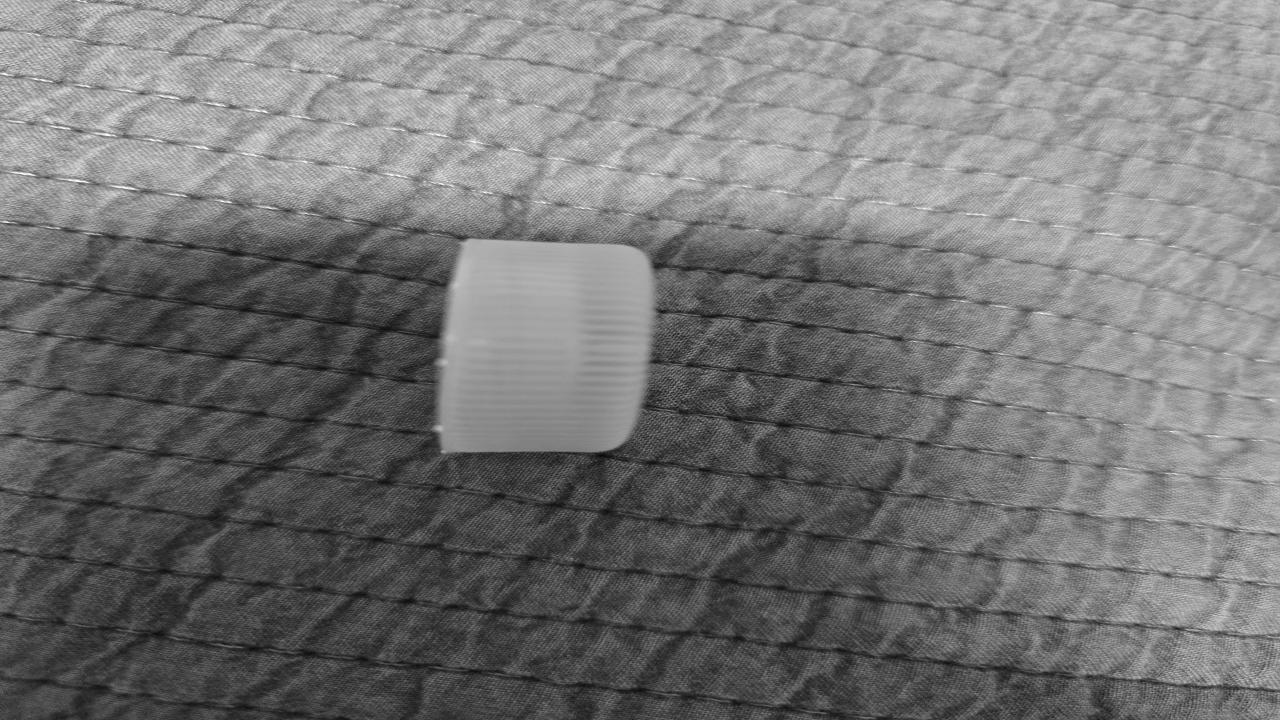bottle_cap: (444, 240, 646, 450)
